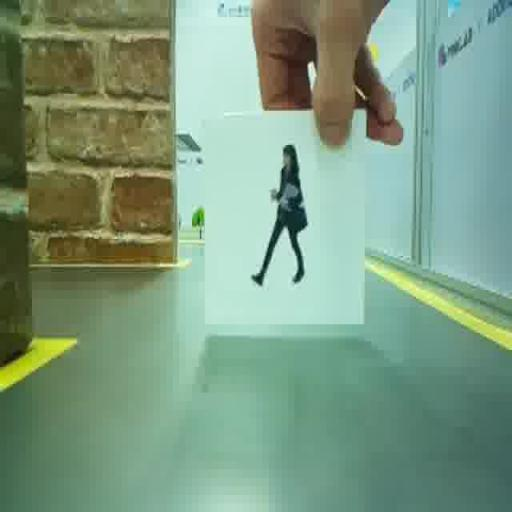human: (251, 144, 307, 285)
